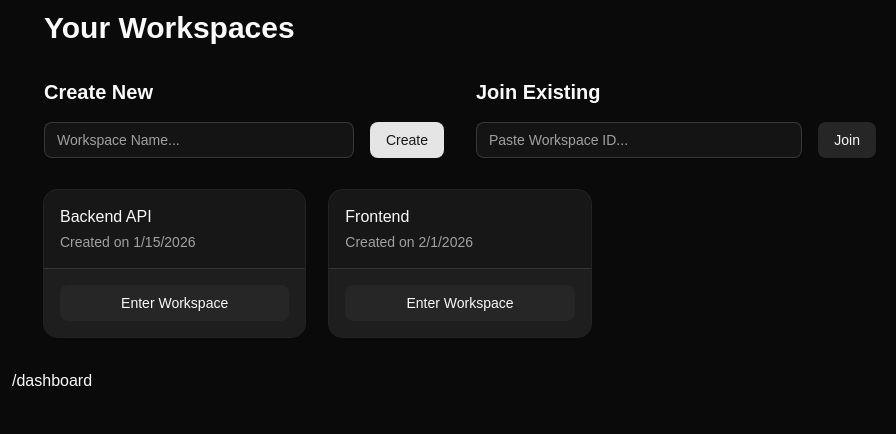
joining a workspace › shows the server error for an unknown ID
The width and height of the screenshot is (896, 434).
Type "nope" into the field with placeholder "Paste Workspace ID...".
click(639, 140); type("nope")  # box x1=476 y1=122 x2=802 y2=158
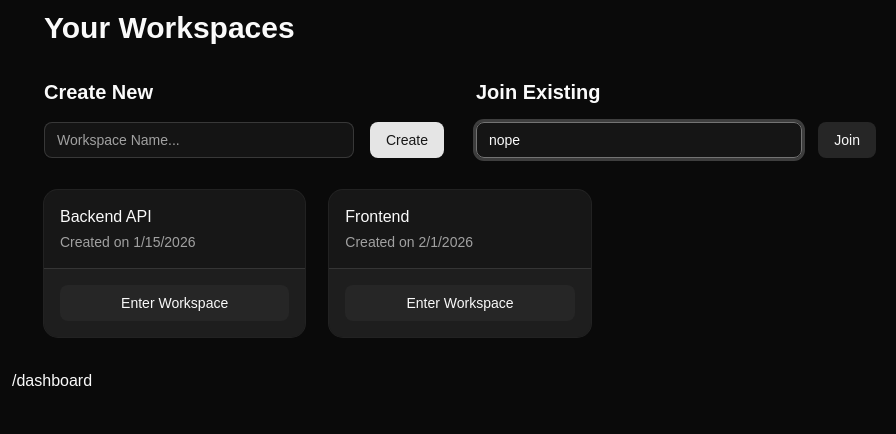
Click the button "Join".
click(847, 140)  # box x1=818 y1=122 x2=876 y2=158
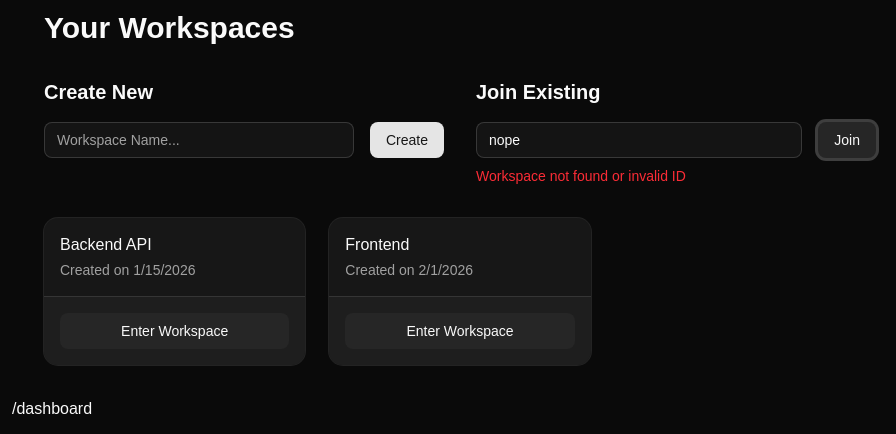
Expected: the text with test id "location" reads "/dashboard", x1=12 y1=400 x2=92 y2=417
Expected: the text "Workspace not found or invalid ID" is shown, x1=476 y1=168 x2=686 y2=184
